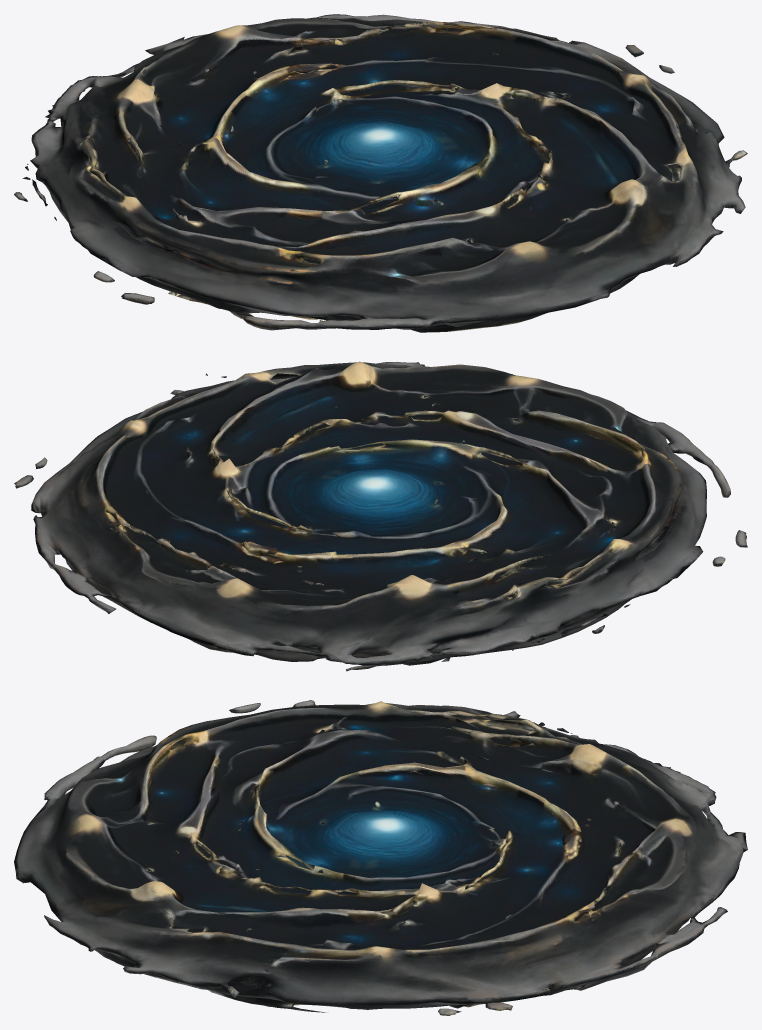
The picture shows the model from 3 angles, top to bottom: view 1: azimuth 30°, elevation 25°; view 2: azimuth 150°, elevation 25°; view 3: azimuth 270°, elevation 25°; orthographic projection. The views are drawn at different scales.
Size of the model in its own units: 2 by 0.2779 by 1.98.
Materials: 1 (1 with a texture image).
